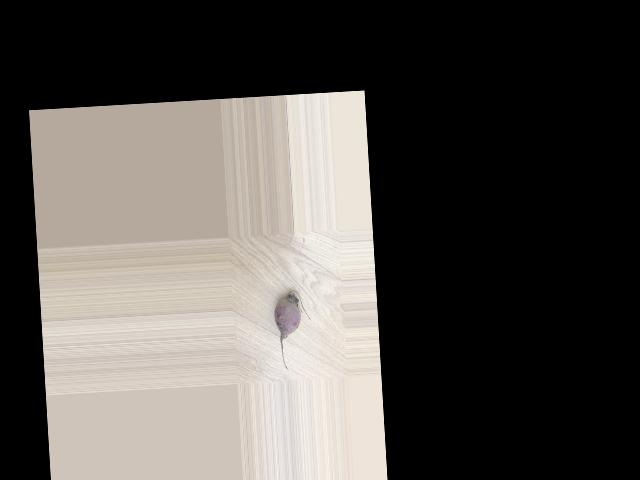beet: (272, 289, 313, 371)
